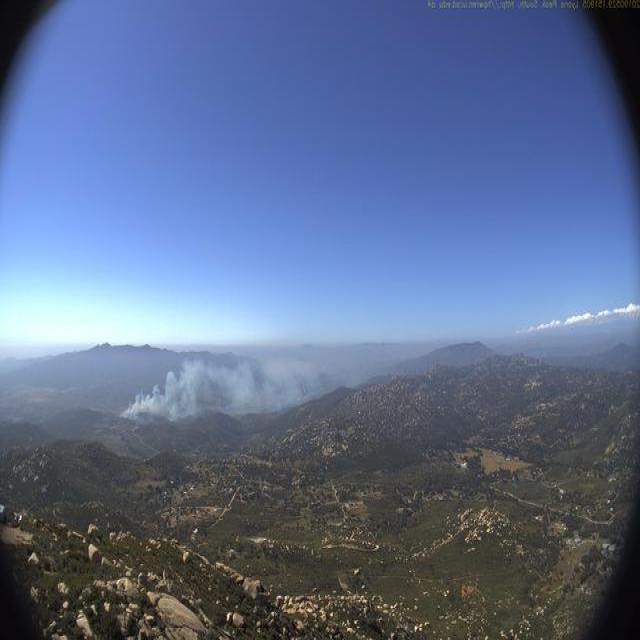Smoke: (122, 351, 341, 424)
